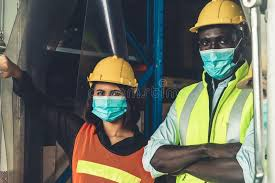Helmet: (186, 1, 252, 33), (86, 55, 135, 84)
Jacket: (165, 89, 257, 183), (79, 124, 152, 183)
Mask: (196, 50, 247, 82), (88, 96, 135, 121)
